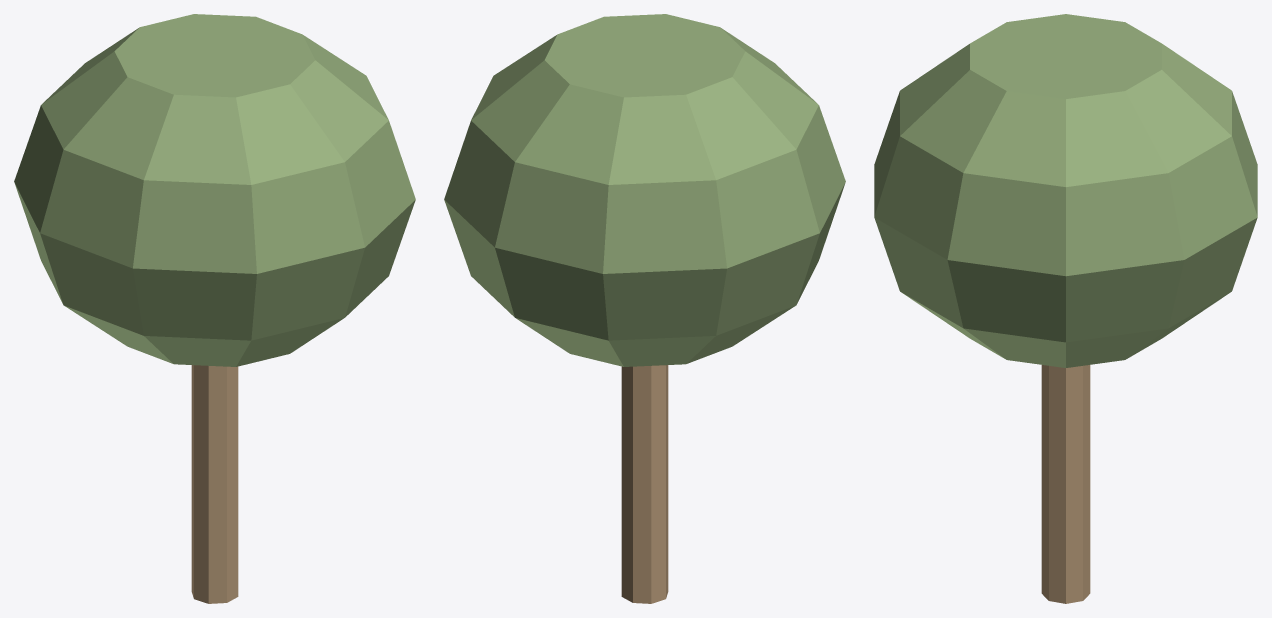
The model's file is oak-arch-13.glb.
3 views of the same model, side by side, from view 1: azimuth 30°, elevation 25°; view 2: azimuth 150°, elevation 25°; view 3: azimuth 270°, elevation 25° (orthographic).
Visible parts, largest first — view 1: living roof, timber; view 2: living roof, timber; view 3: living roof, timber.
Part boxes in pixels (bbox=[...]): living roof: bbox=[14, 14, 415, 366]; timber: bbox=[191, 365, 238, 603]; living roof: bbox=[444, 14, 845, 366]; timber: bbox=[621, 365, 668, 603]; living roof: bbox=[874, 14, 1257, 367]; timber: bbox=[1041, 365, 1090, 603].
Size of the model in its own units: 9.85 by 15.05 by 9.37.
